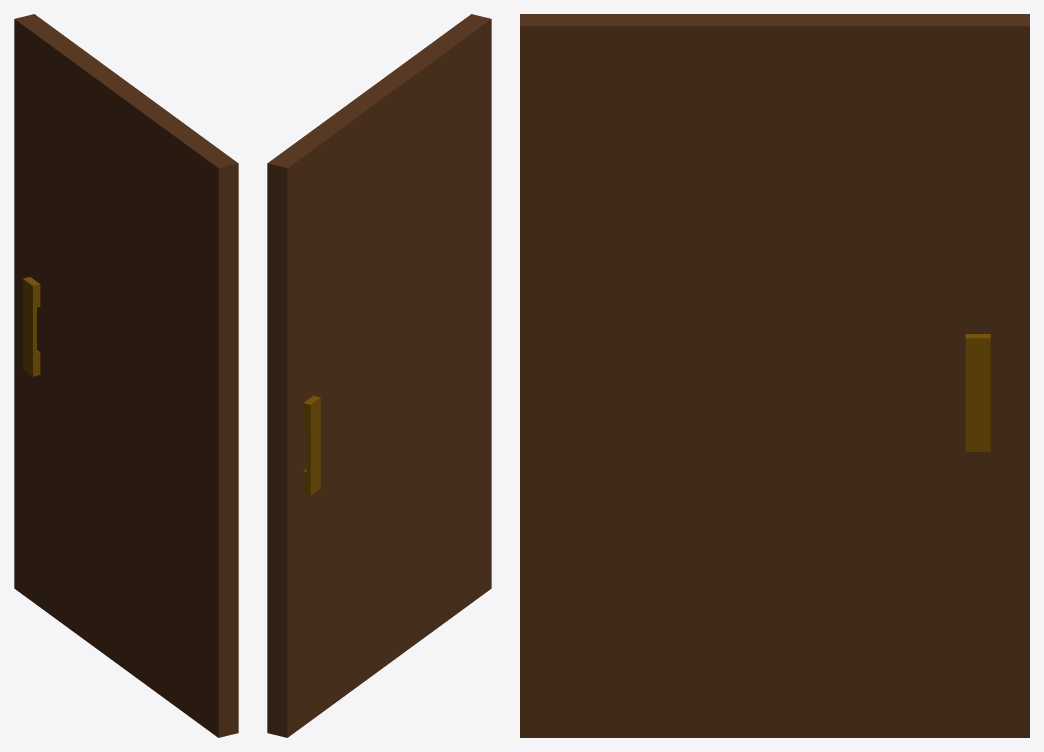
Rendered from WoodDoor.fbx.
The picture shows the model from 3 angles, left to right: view 1: azimuth 30°, elevation 25°; view 2: azimuth 150°, elevation 25°; view 3: azimuth 270°, elevation 25°; orthographic projection. The views are drawn at different scales.
Visible parts, largest first — view 1: Door; view 2: Door; view 3: Door.
Part boxes in pixels (x1,y1,x2,y2): Door: [14, 14, 238, 737]; Door: [267, 14, 491, 737]; Door: [520, 14, 1029, 737].
Size of the model in its own units: 29.55 by 462 by 300.
